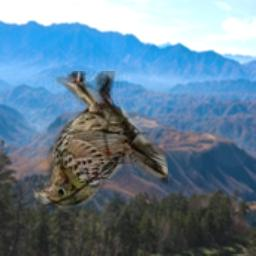Sparrow: (33, 71, 168, 212)
